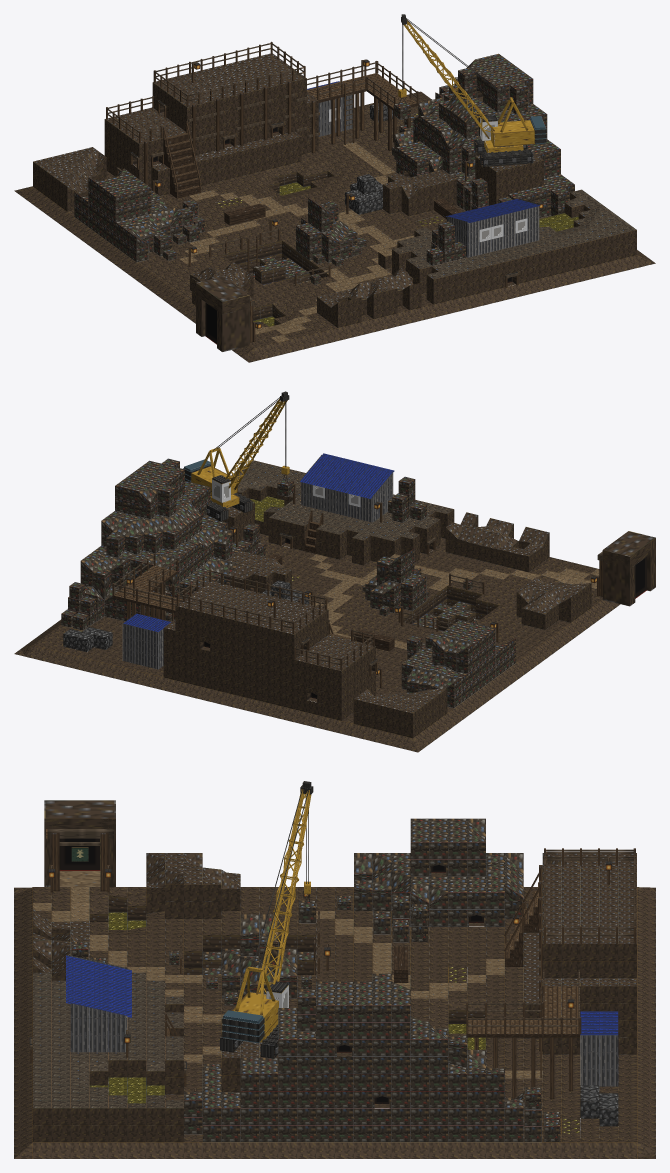
File: stage3_1.obj
The picture shows the model from 3 angles, top to bottom: view 1: azimuth 30°, elevation 25°; view 2: azimuth 150°, elevation 25°; view 3: azimuth 270°, elevation 25°; orthographic projection. The views are drawn at different scales.
Visible parts, largest first — view 1: Default; view 2: Default; view 3: Default.
Boxes of the visible parts, x1,y1,x2,y2 form: Default: (14, 14, 655, 362); Default: (14, 391, 655, 752); Default: (14, 781, 655, 1158).
Size of the model in its own units: 35.3 by 17.86 by 34.
Materials: 1 (1 with a texture image).
